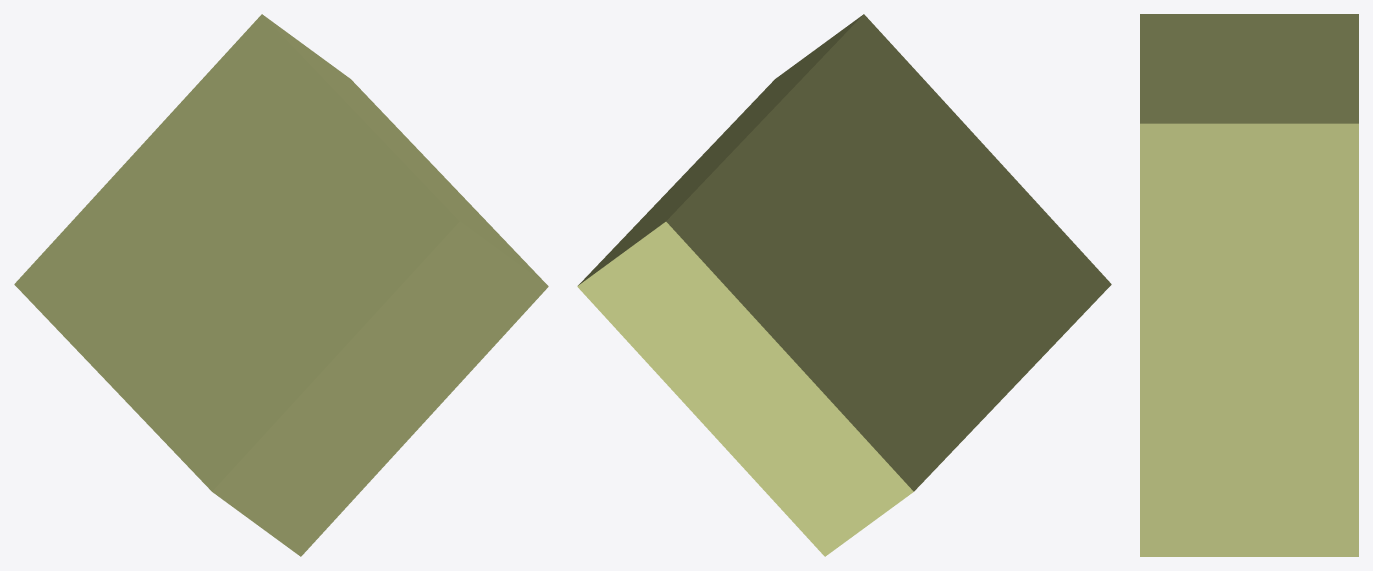
The picture shows the model from 3 angles, left to right: view 1: azimuth 30°, elevation 25°; view 2: azimuth 150°, elevation 25°; view 3: azimuth 270°, elevation 25°; orthographic projection. The views are drawn at different scales.
Parts seen in each view (by area): view 1: 0_1_2_3_0_0_0_0_2; view 2: 0_1_2_3_0_0_0_0_2; view 3: 0_1_2_3_0_0_0_0_2.
Boxes of the visible parts, box(x1,y1,x2,y2) form: 0_1_2_3_0_0_0_0_2: box(14, 14, 548, 556); 0_1_2_3_0_0_0_0_2: box(577, 14, 1111, 556); 0_1_2_3_0_0_0_0_2: box(1140, 14, 1358, 556).
Size of the model in its own units: 17.36 by 17.33 by 6.
